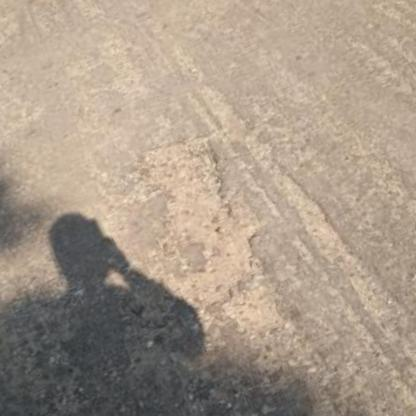pothole: (109, 120, 299, 365), (22, 0, 124, 19)
